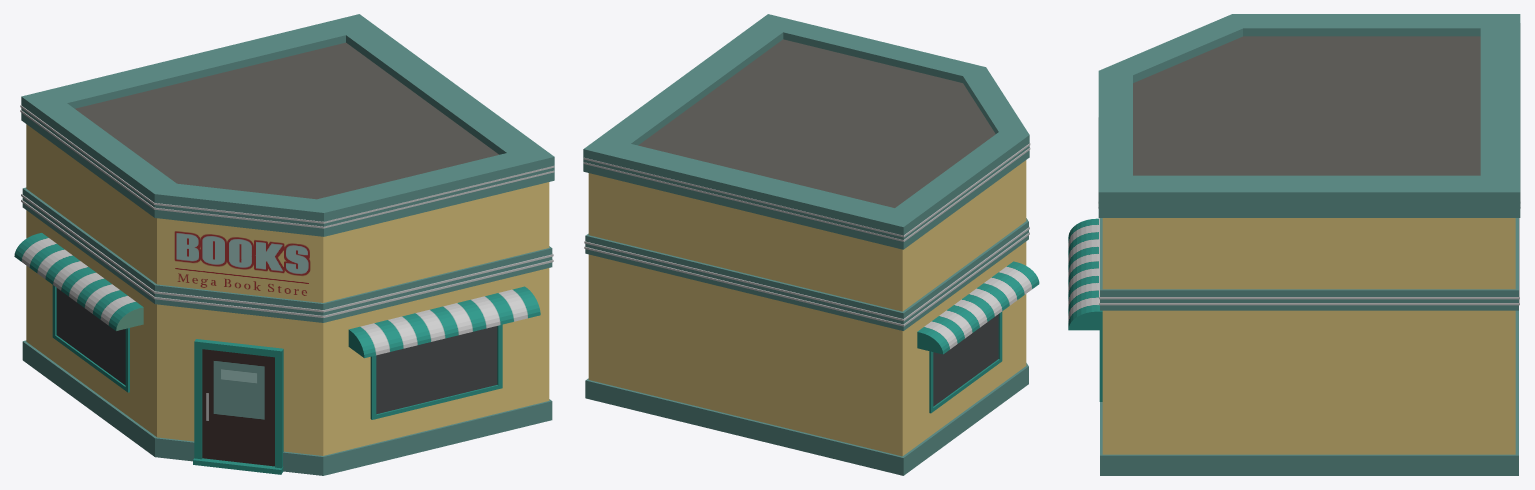
Rendered from building-books-shop.glb.
The picture shows the model from 3 angles, left to right: view 1: azimuth 30°, elevation 25°; view 2: azimuth 150°, elevation 25°; view 3: azimuth 270°, elevation 25°; orthographic projection. The views are drawn at different scales.
Parts seen in each view (by area): view 1: Building_Books Shop; view 2: Building_Books Shop; view 3: Building_Books Shop.
Boxes of the visible parts, bbox=[...] form: Building_Books Shop: bbox=[14, 14, 554, 475]; Building_Books Shop: bbox=[583, 14, 1039, 475]; Building_Books Shop: bbox=[1068, 14, 1520, 475].
Size of the model in its own units: 12.04 by 8.36 by 12.04.
1 material, 1 textured.
